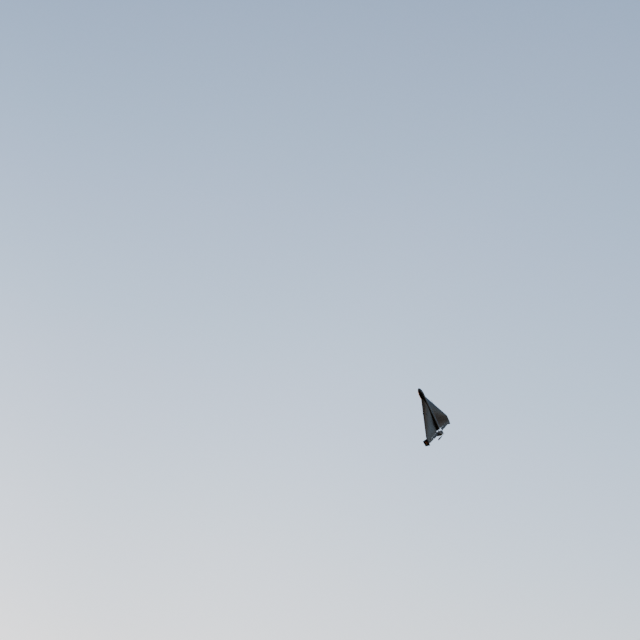shahed: (418, 388, 451, 446)
